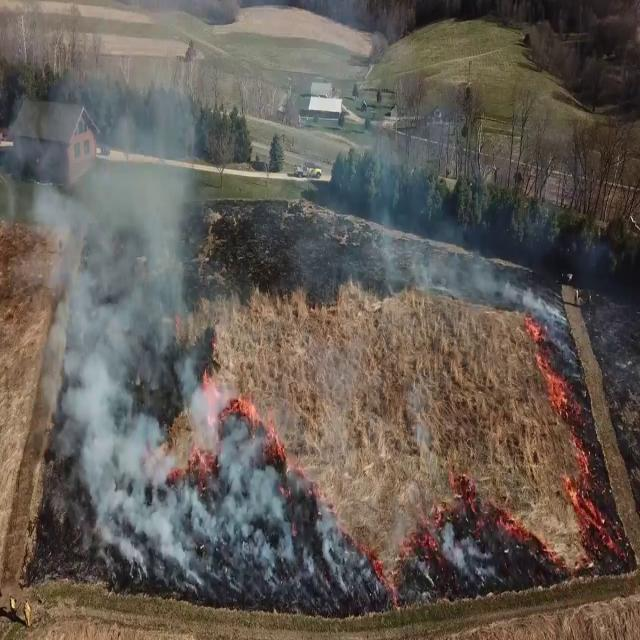Smoke: (2, 6, 259, 582)
